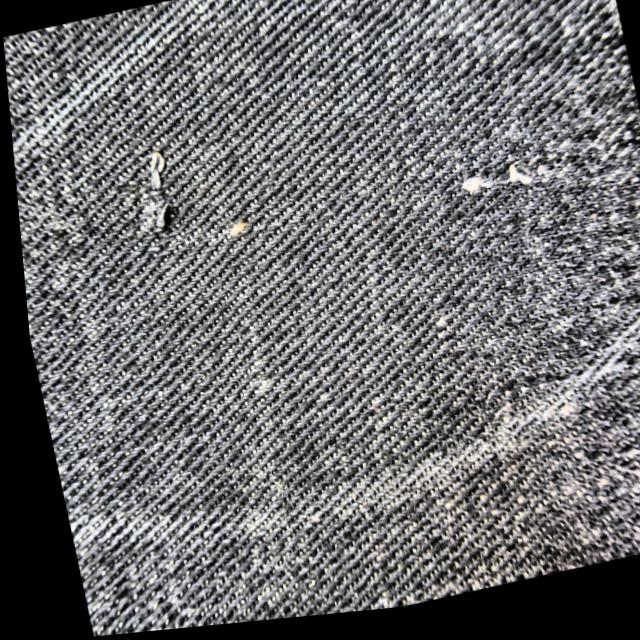Hole: (124, 150, 180, 246), (454, 167, 530, 207), (221, 221, 246, 247)
